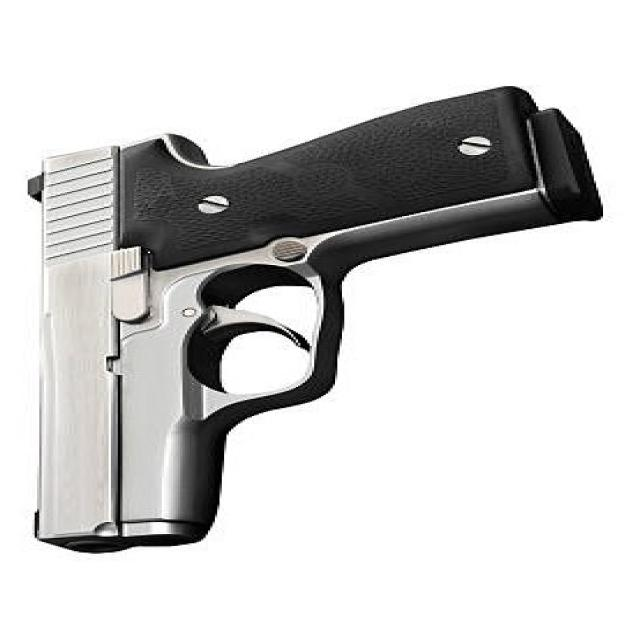pistol: (16, 71, 620, 563)
